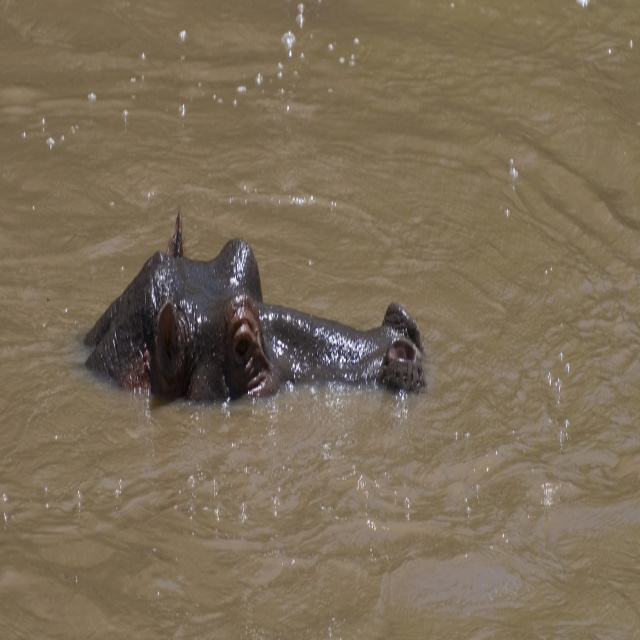Hippopotamus: (69, 216, 429, 411)
